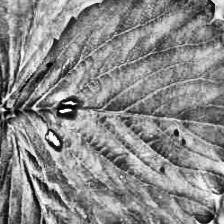Leaf Spot: (2, 0, 224, 224), (0, 112, 130, 224)
